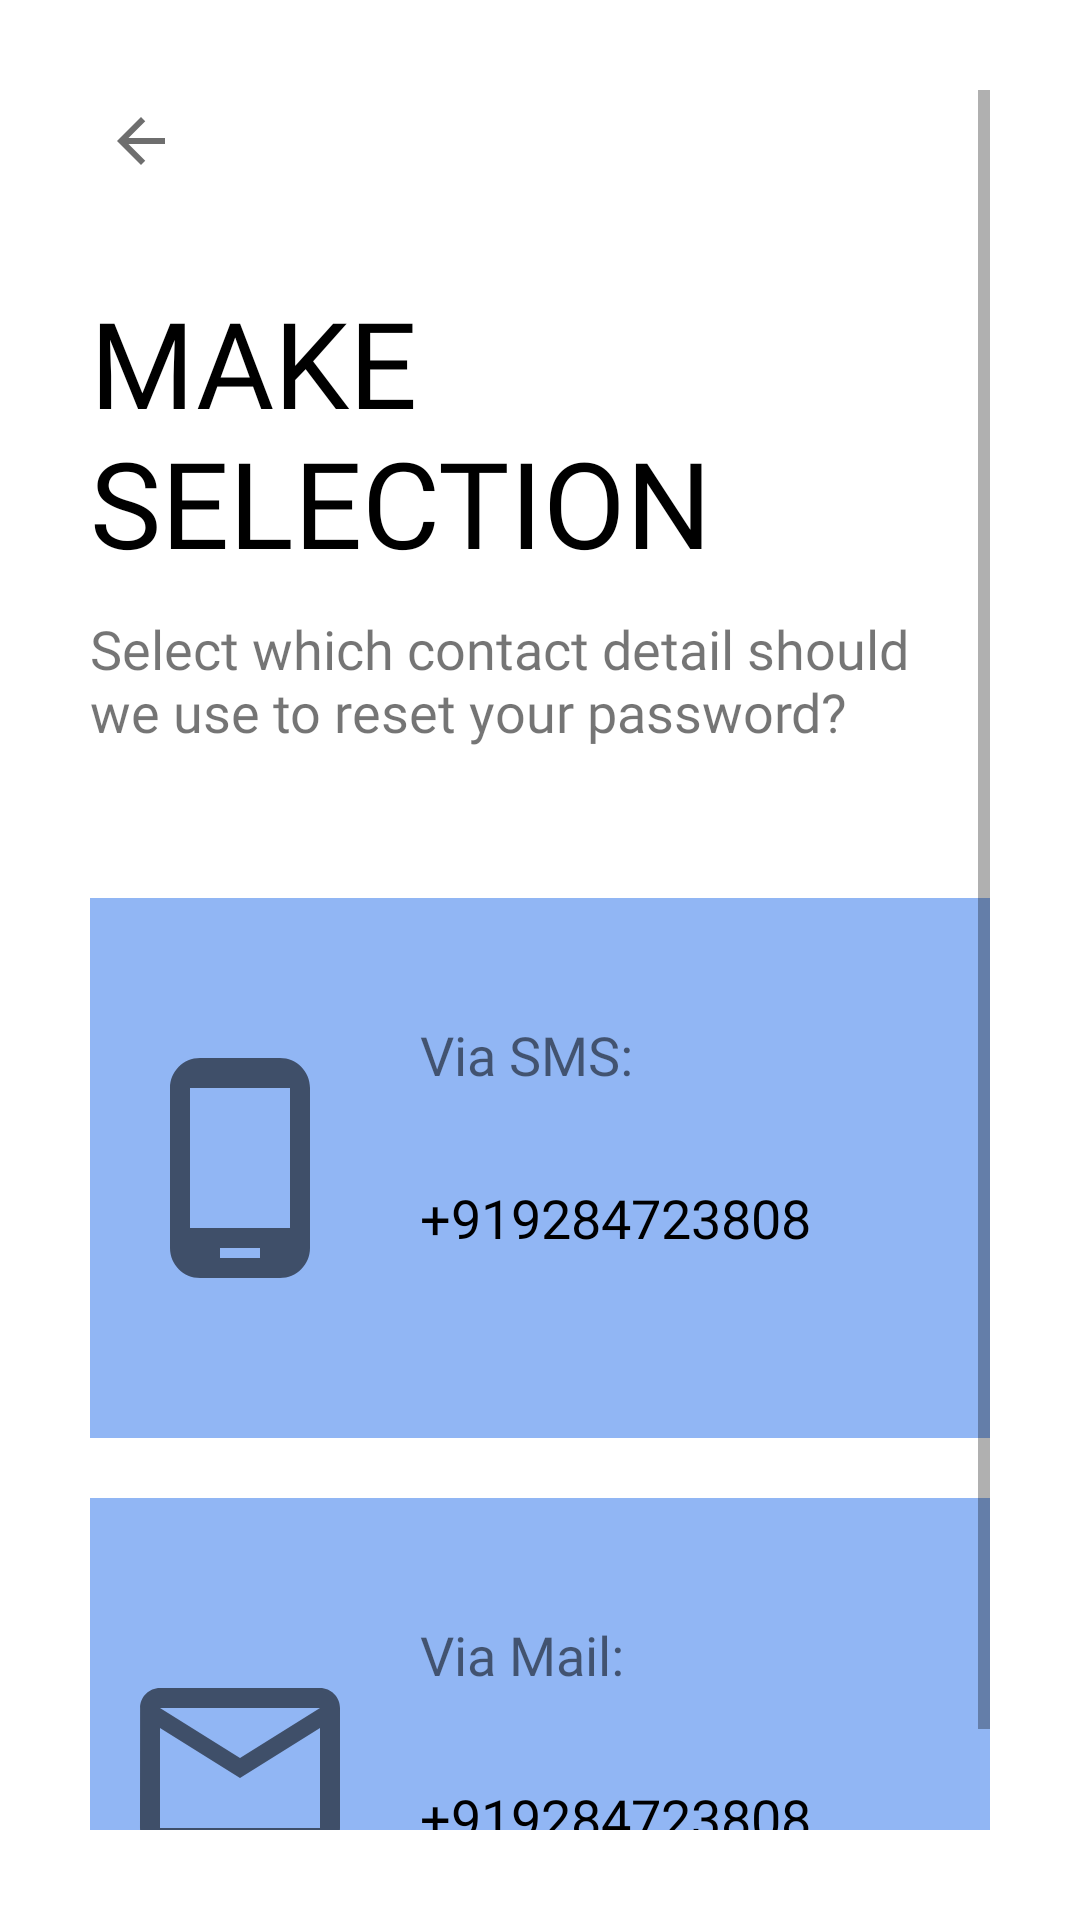

Screen size 1080px x 1920px. Icon name, then its box in pixels as (x1, y1, x2, y2):
arrow back: (117, 117, 165, 165)
phone: (170, 1058, 310, 1278)
